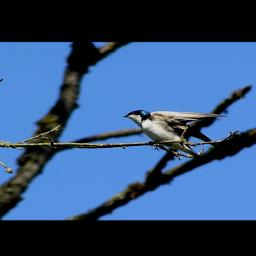Swallow: (122, 109, 228, 162)
